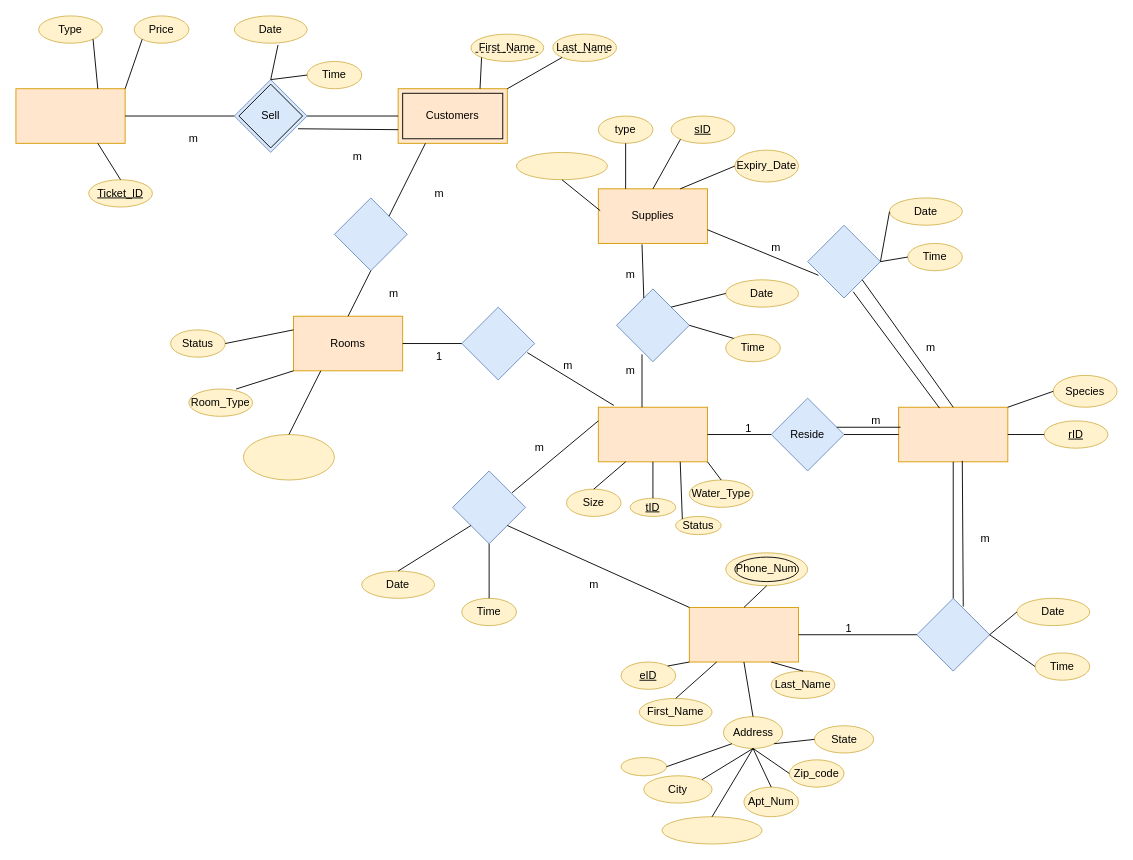
The diagram is 1133 pixels wide and 860 high, and some of its shapes have lost their labels. The centre of each missing label's shape, as x and y in pixels:
Building_Num: (x=711, y=830)
Clean: (x=652, y=325)
Contain: (x=498, y=343)
Employees: (x=743, y=634)
Feed: (x=843, y=261)
Maintain: (x=489, y=507)
Purchase_Date: (x=561, y=166)
Residents: (x=953, y=434)
Room_Number: (x=288, y=457)
Street: (x=643, y=766)
Tanks: (x=652, y=434)
Tend: (x=953, y=634)
Ticket_Agency: (x=70, y=115)
visit: (x=370, y=234)
